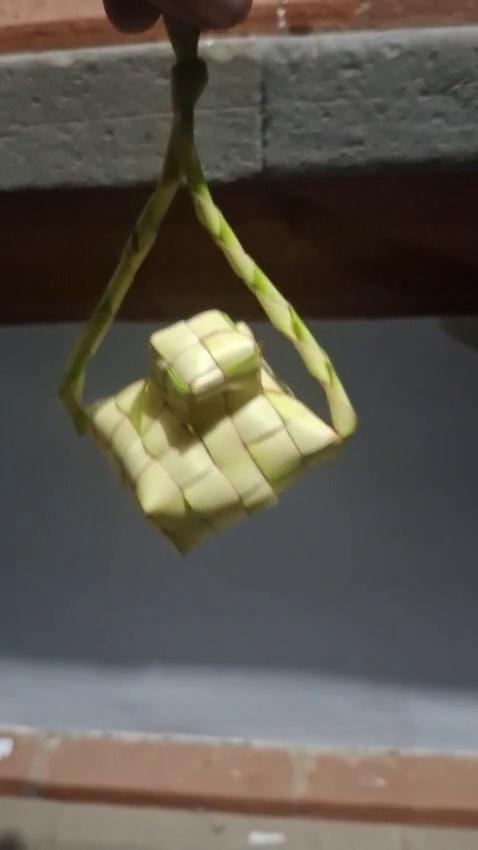Tipat Gong: (58, 34, 361, 566)
